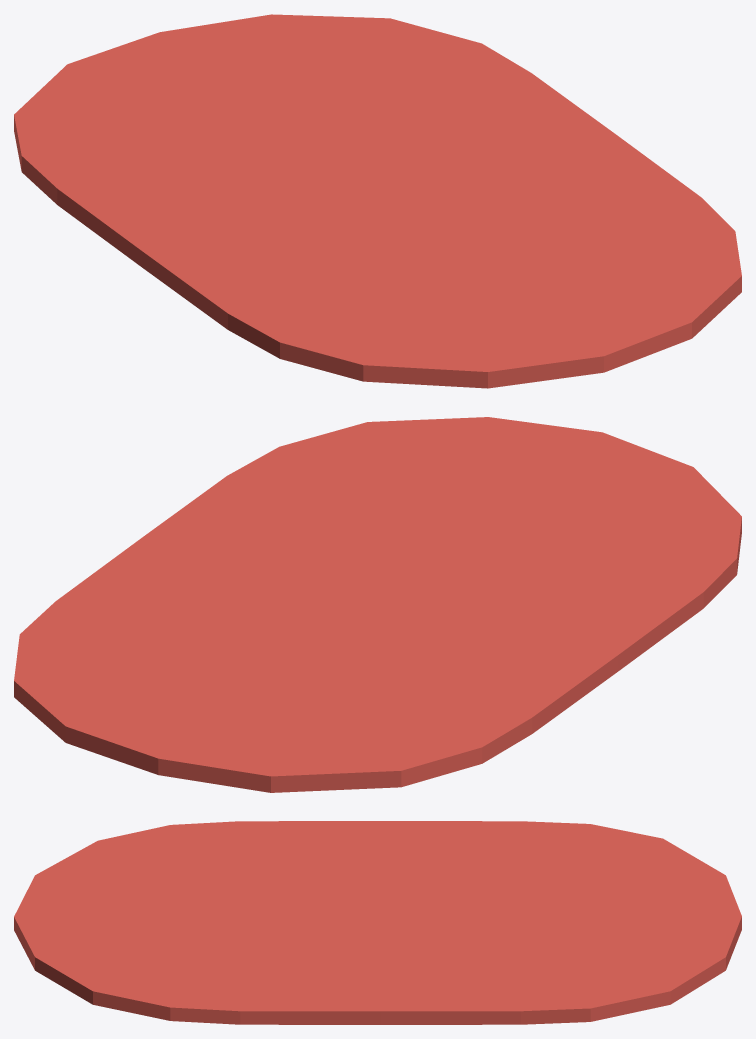
Rendered from carpet_2.fbx.
3 views of the same model, one above another, from view 1: azimuth 30°, elevation 25°; view 2: azimuth 150°, elevation 25°; view 3: azimuth 270°, elevation 25° (orthographic). The views are drawn at different scales.
Visible parts, largest first — view 1: Carpet_2; view 2: Carpet_2; view 3: Carpet_2.
Part boxes in pixels (x1,y1,x2,y2): Carpet_2: (14, 14, 741, 388); Carpet_2: (14, 417, 741, 792); Carpet_2: (14, 821, 741, 1024).
Bounding box in the file's own units: 224 × 7.39 × 361.
